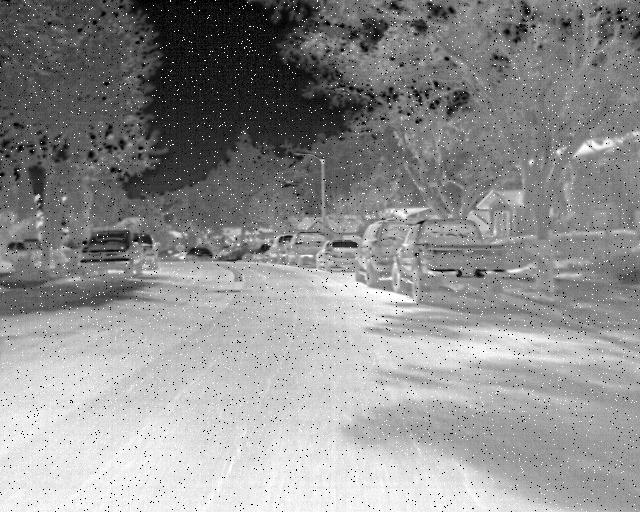car: (390, 216, 485, 300), (354, 210, 442, 297), (82, 226, 165, 291), (287, 230, 365, 278), (324, 230, 387, 285), (118, 230, 167, 281), (265, 235, 313, 265)
light: (287, 140, 344, 189)
